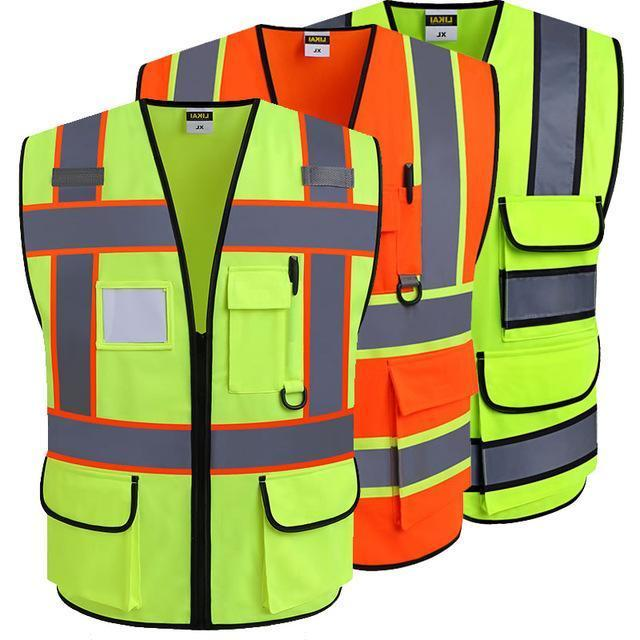reflective_jacket: (116, 18, 504, 581), (15, 92, 380, 620), (345, 1, 611, 530)
